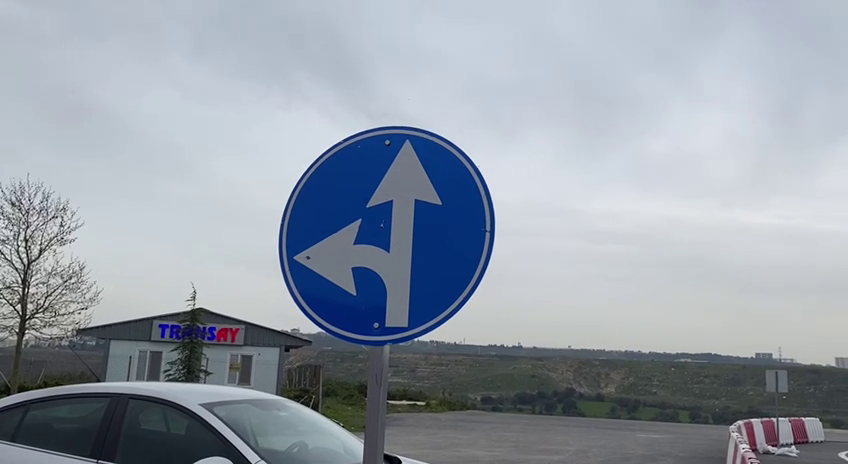forwardAndLeft: (272, 123, 499, 347)
